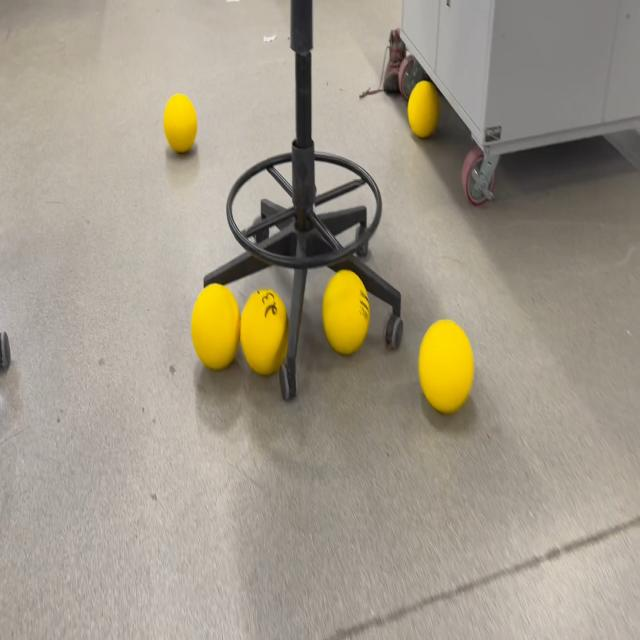Fuel: (419, 319, 474, 414), (191, 283, 241, 372), (240, 288, 290, 376), (322, 270, 370, 355), (163, 93, 198, 155), (407, 80, 441, 138)
